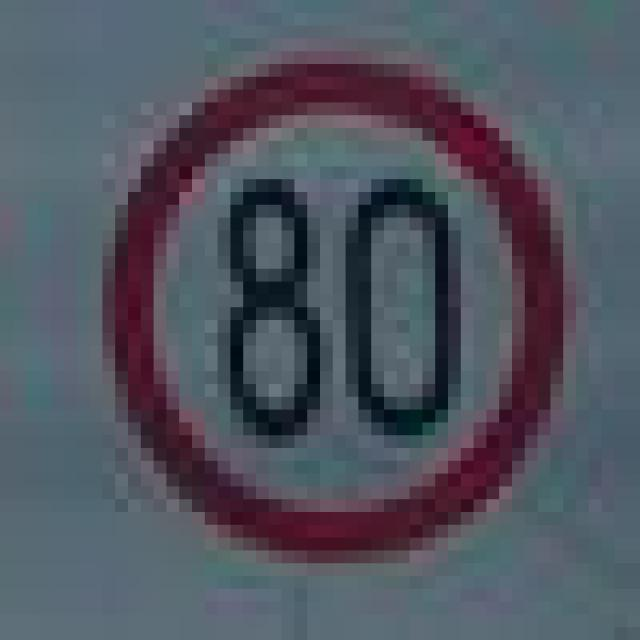SPEED_LIMIT_80: (90, 51, 563, 525)
